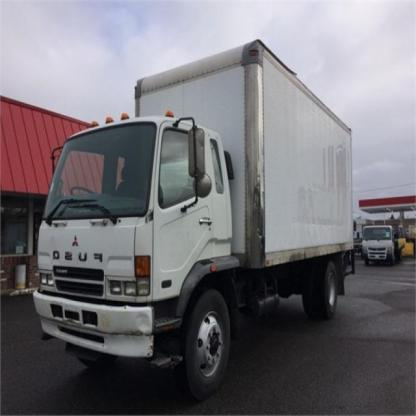truck: (35, 41, 354, 389)
